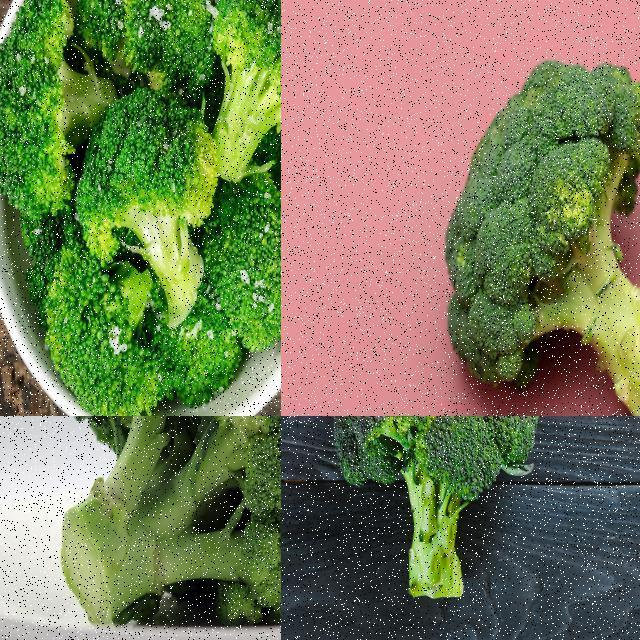broccoli: (434, 51, 639, 415), (59, 416, 280, 629), (329, 416, 547, 604), (74, 88, 221, 328), (0, 0, 121, 213), (41, 241, 166, 415), (197, 171, 280, 346), (206, 0, 280, 187)
